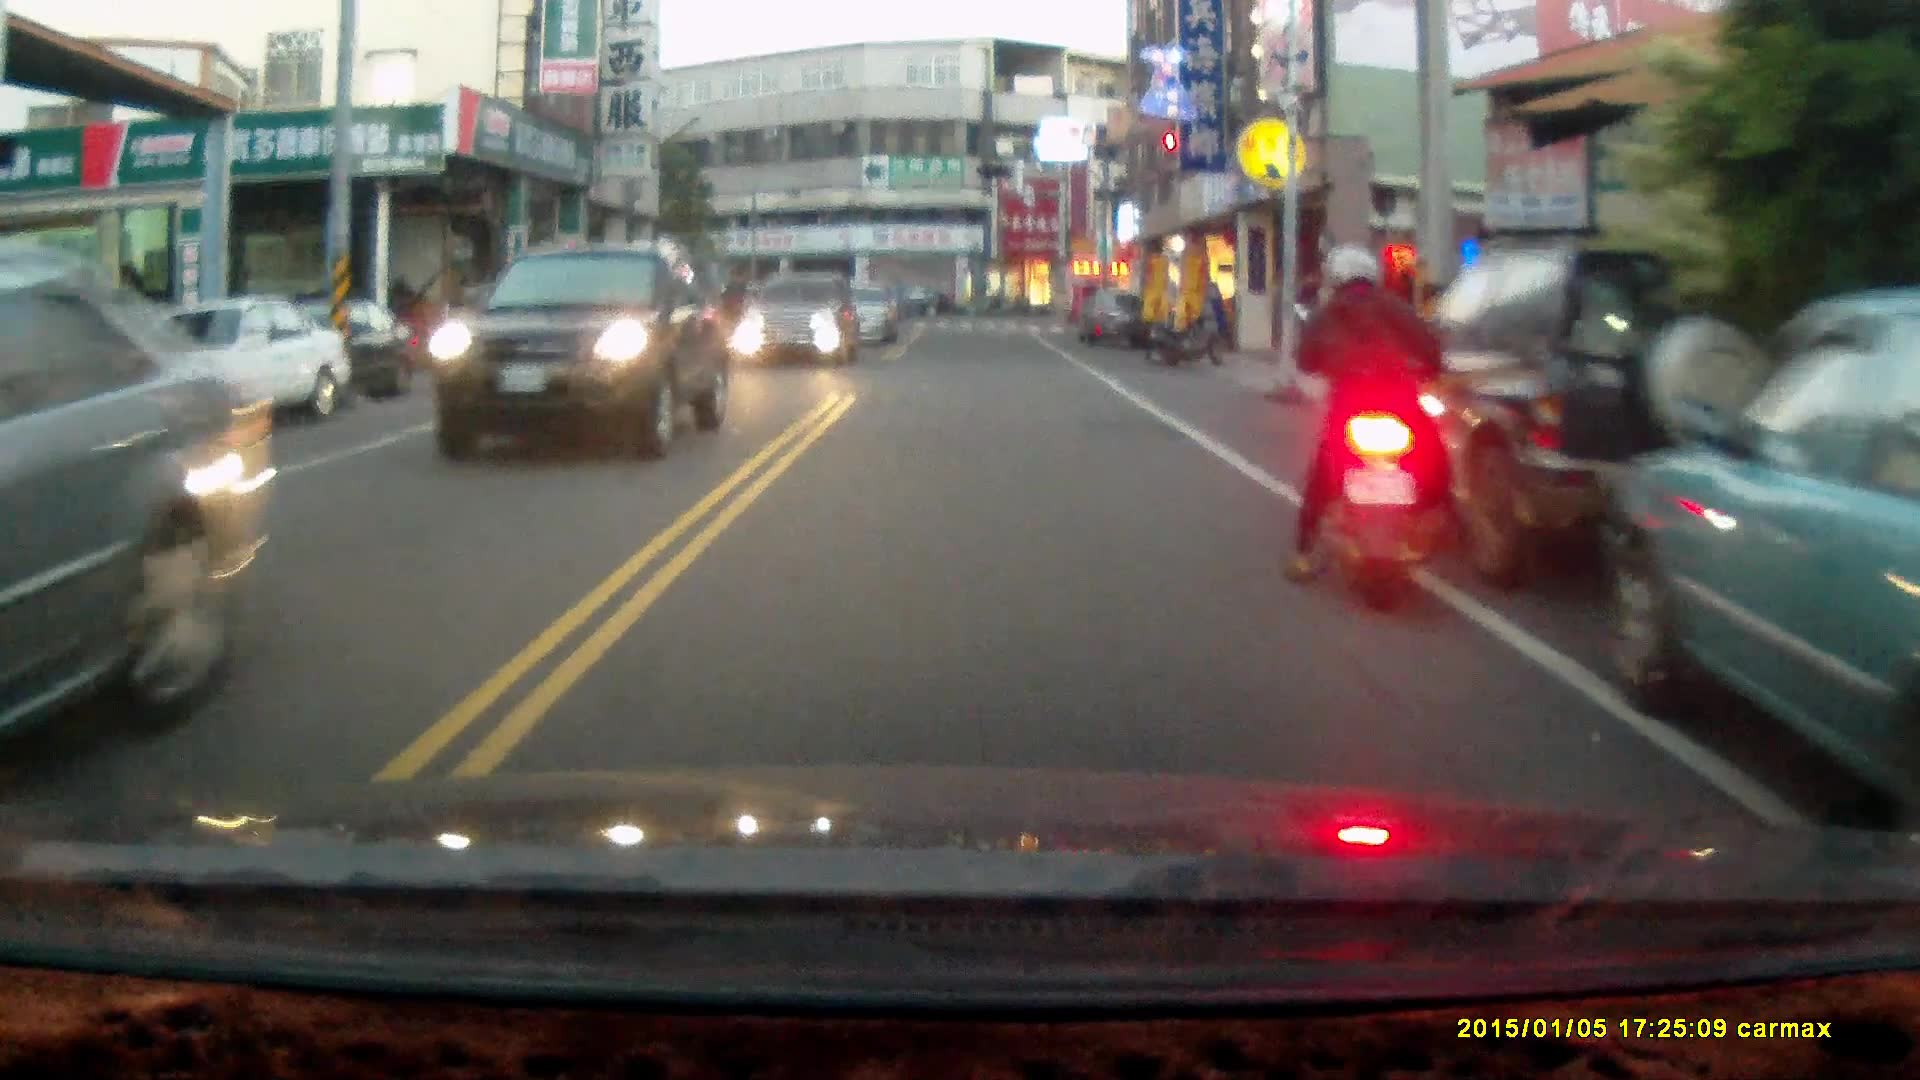rider: (1280, 242, 1474, 608)
vehicle: (1585, 290, 1920, 828), (1351, 247, 1841, 597), (1, 249, 264, 761), (427, 247, 724, 463), (103, 296, 353, 432), (730, 280, 868, 374), (1076, 289, 1151, 350)
